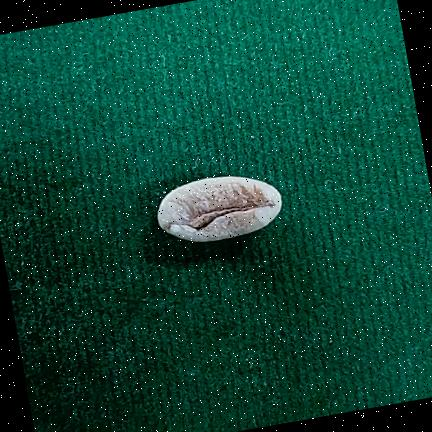immature: (157, 176, 282, 242)
